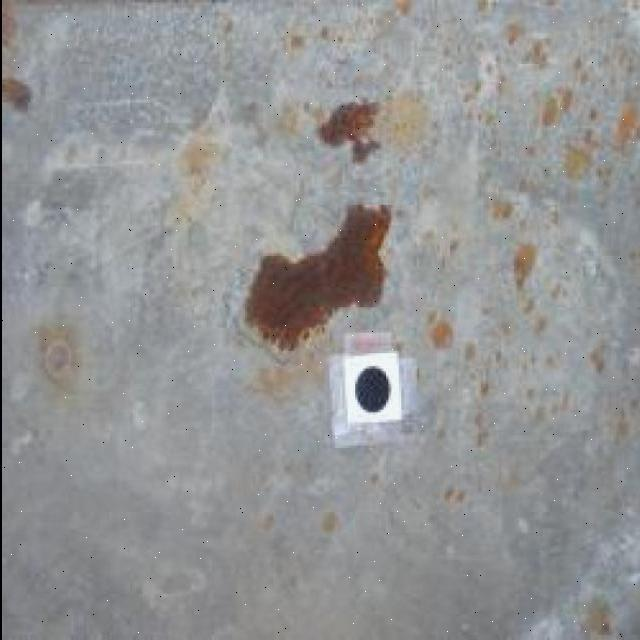crack: (14, 9, 84, 88), (42, 131, 115, 179)
dampens: (187, 98, 214, 133)
dampness: (240, 200, 393, 353), (317, 99, 382, 164), (34, 320, 85, 394), (513, 243, 538, 285), (614, 104, 639, 144), (3, 77, 33, 110), (320, 510, 339, 534)
